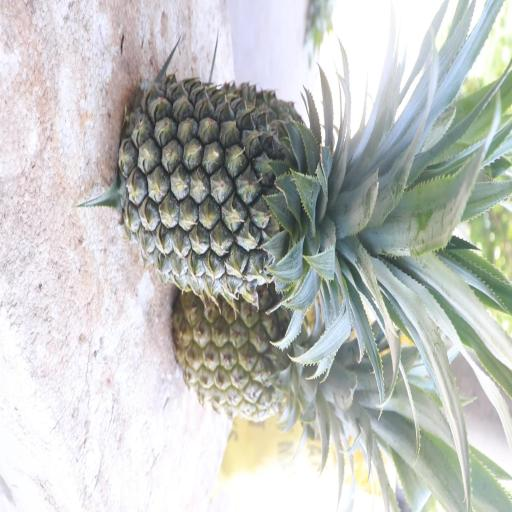------------------------------: (169, 250, 400, 428)
